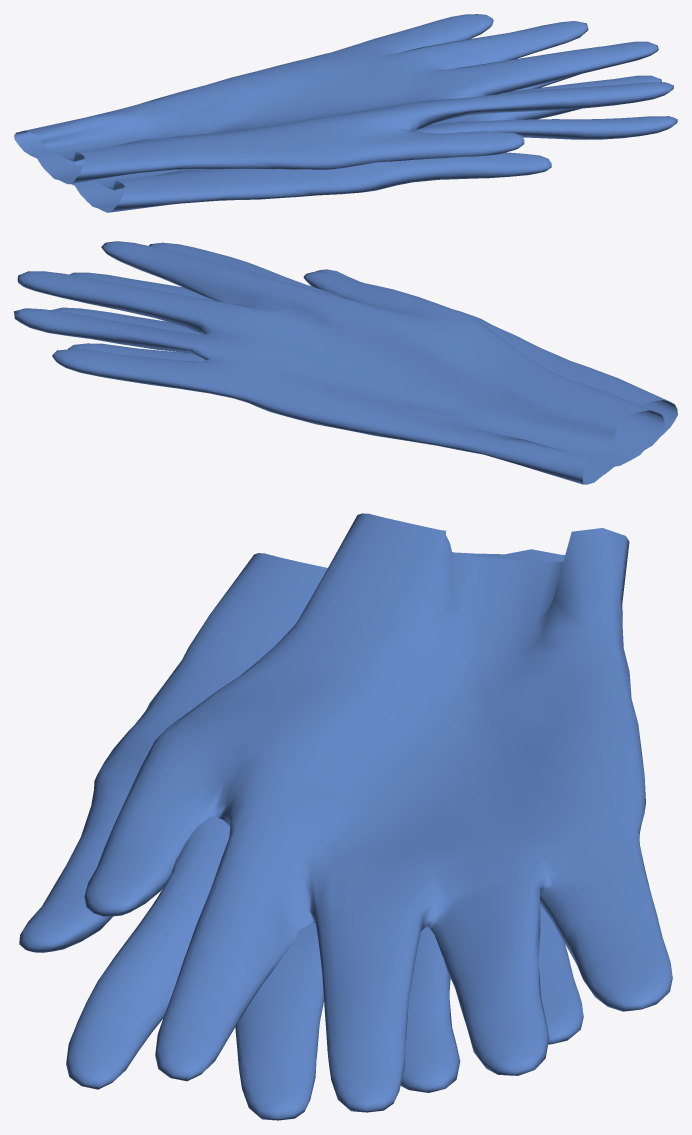
Rendered from gloves.FBX.
3 views of the same model, one above another, from view 1: azimuth 30°, elevation 25°; view 2: azimuth 150°, elevation 25°; view 3: azimuth 270°, elevation 25° (orthographic). The views are drawn at different scales.
Visible parts, largest first — view 1: lHand, lHand002; view 2: lHand, lHand002; view 3: lHand, lHand002.
Boxes of the visible parts, x1,y1,x2,y2 form: lHand: (14, 14, 673, 184); lHand002: (63, 74, 677, 212); lHand: (14, 241, 664, 484); lHand002: (51, 242, 677, 474); lHand: (84, 513, 672, 1112); lHand002: (19, 553, 583, 1120).
Size of the model in its own units: 17.41 by 1.2 by 8.42.
Materials: 1 (1 with a texture image).
